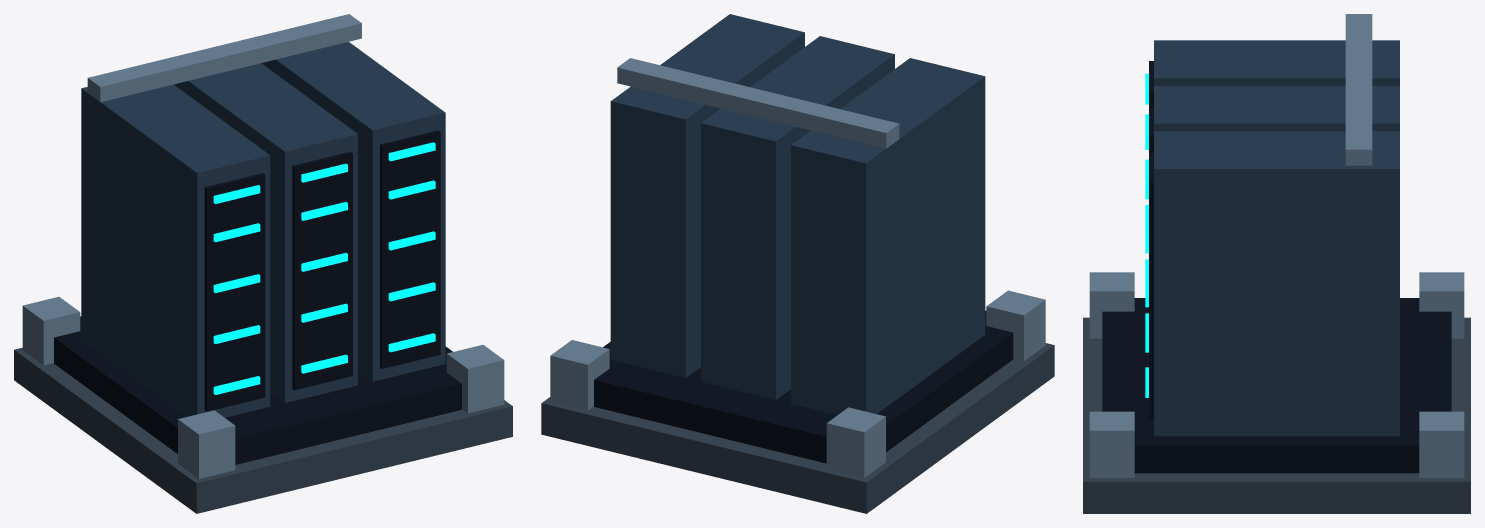
File: data_center_low.glb
3 renders of one model, left to right at view 1: azimuth 30°, elevation 25°; view 2: azimuth 150°, elevation 25°; view 3: azimuth 270°, elevation 25°, orthographic. The views are drawn at different scales.
Visible parts, largest first — view 1: Server rack, Foundation, Undercarriage, Server rack.002, Server rack.001, Server fascia, Server fascia.001, Server fascia.002, Network bus, Corner lock.001, Corner lock.003, Corner lock; view 2: Server rack, Server rack.002, Server rack.001, Foundation, Undercarriage, Network bus, Corner lock, Corner lock.002, Corner lock.001; view 3: Server rack.002, Undercarriage, Foundation, Server rack, Server rack.001, Network bus, Corner lock.002, Corner lock.003, Corner lock, Corner lock.001, Server fascia.002.
Part boxes in pixels (x1,y1,x2,y2): Server rack: [81, 84, 270, 417]; Foundation: [14, 347, 512, 513]; Undercarriage: [53, 316, 461, 464]; Server rack.002: [261, 41, 445, 381]; Server rack.001: [174, 63, 357, 402]; Server fascia: [204, 173, 265, 411]; Server fascia.001: [292, 151, 352, 390]; Server fascia.002: [380, 130, 440, 368]; Network bus: [87, 14, 361, 102]; Corner lock.001: [178, 410, 235, 478]; Corner lock.003: [446, 345, 504, 413]; Corner lock: [22, 296, 80, 365]; Server rack: [791, 58, 985, 414]; Server rack.002: [610, 14, 804, 377]; Server rack.001: [701, 36, 894, 399]; Foundation: [541, 343, 1054, 513]; Undercarriage: [594, 310, 1013, 463]; Network bus: [617, 58, 899, 148]; Corner lock: [826, 407, 885, 477]; Corner lock.002: [550, 340, 609, 410]; Corner lock.001: [986, 290, 1045, 361]; Server rack.002: [1154, 131, 1399, 436]; Undercarriage: [1102, 298, 1451, 473]; Foundation: [1083, 317, 1470, 513]; Server rack: [1154, 40, 1399, 85]; Server rack.001: [1154, 86, 1399, 131]; Network bus: [1345, 14, 1372, 165]; Corner lock.002: [1419, 411, 1464, 477]; Corner lock.003: [1089, 411, 1134, 477]; Corner lock: [1419, 272, 1464, 338]; Corner lock.001: [1089, 272, 1134, 338]; Server fascia.002: [1149, 152, 1153, 418].
Bounding box in the file's own units: 2.6 × 2.59 × 2.6.
